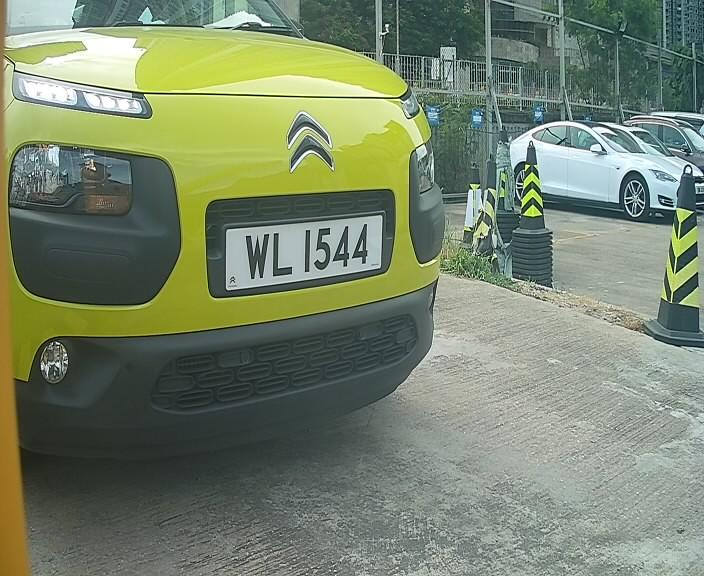Car: (1, 3, 497, 451)
License Plate: (227, 206, 387, 294)
